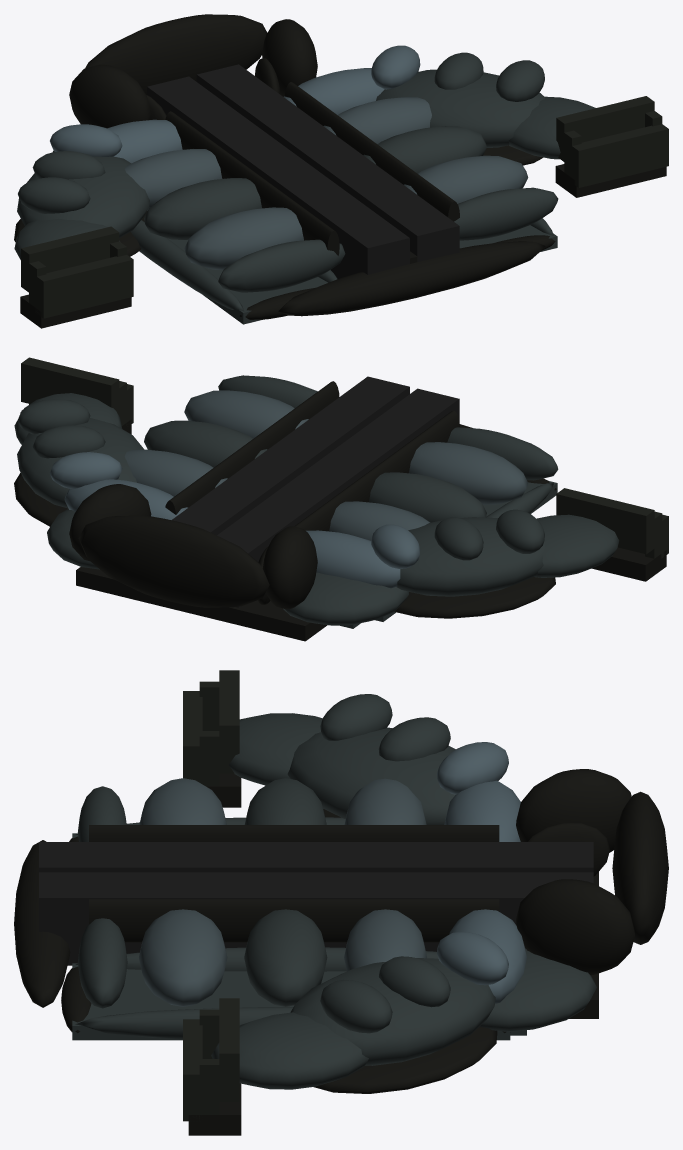
The model's file is CMU3DCivilianJacketGrayPufferJacketWorldCloud.glb.
3 renders of one model, top to bottom at view 1: azimuth 30°, elevation 25°; view 2: azimuth 150°, elevation 25°; view 3: azimuth 270°, elevation 25°, orthographic. The views are drawn at different scales.
Visible parts, largest first — view 1: broad left centre placket, broad right centre placket, rear collar roll, short dark elastic bottom hem, right soft upper sleeve, left inflated stitched channel 4, left inflated stitched channel 3, left inflated stitched channel 5, left cuff outer bottom fold, right cuff outer bottom fold, left soft upper sleeve, left standing collar (+29 smaller); view 2: rear collar roll, broad left centre placket, broad right centre placket, left soft upper sleeve, left inflated stitched channel 4, left connected shoulder yoke, recessed source-visible neck lining, left outward forearm fold, left inflated stitched channel 3, right front facing seam, left standing collar, left sleeve underside (+25 smaller); view 3: broad left centre placket, broad right centre placket, right front facing seam, right soft upper sleeve, right standing collar, left soft upper sleeve, right outward forearm fold, left front facing seam, right inflated stitched channel 4, rear collar roll, right inflated stitched channel 3, left standing collar (+33 smaller).
Boxes of the visible parts, x1,y1,x2,y2 form: broad left centre placket: (147,76,409,278); broad right centre placket: (196,64,459,261); rear collar roll: (85,14,267,94); short dark elastic bottom hem: (278,241,545,316); right soft upper sleeve: (376,69,544,147); left inflated stitched channel 4: (184,207,303,269); left inflated stitched channel 3: (144,178,261,239); left inflated stitched channel 5: (218,239,345,292); left cuff outer bottom fold: (35,255,133,318); right cuff outer bottom fold: (572,124,668,187); left soft upper sleeve: (17,156,149,237); left standing collar: (69,64,151,128); rear collar roll: (78,515,269,607); broad left centre placket: (217,388,459,607); broad right centre placket: (171,376,409,535); left soft upper sleeve: (396,517,545,596); left inflated stitched channel 4: (409,442,527,504); left connected shoulder yoke: (283,572,408,625); recessed source-visible neck lining: (76,567,327,641); left outward forearm fold: (534,514,619,577); left inflated stitched channel 3: (369,472,486,522); right front facing seam: (165,381,339,514); left standing collar: (262,526,317,609); left sleeve underside: (394,577,555,618); broad left centre placket: (39,842,593,872); broad right centre placket: (39,872,593,965); right front facing seam: (89,899,499,942); right soft upper sleeve: (290,958,495,1065); right standing collar: (516,879,634,975); left soft upper sleeve: (287,727,455,824); right outward forearm fold: (211,1012,368,1089); left front facing seam: (89,825,499,841); right inflated stitched channel 4: (139,909,227,1006); rear collar roll: (612,791,668,944); right inflated stitched channel 3: (244,909,327,1006); left standing collar: (516,769,631,852).
Size of the model in its own units: 0.5112 by 0.084 by 0.3691.
